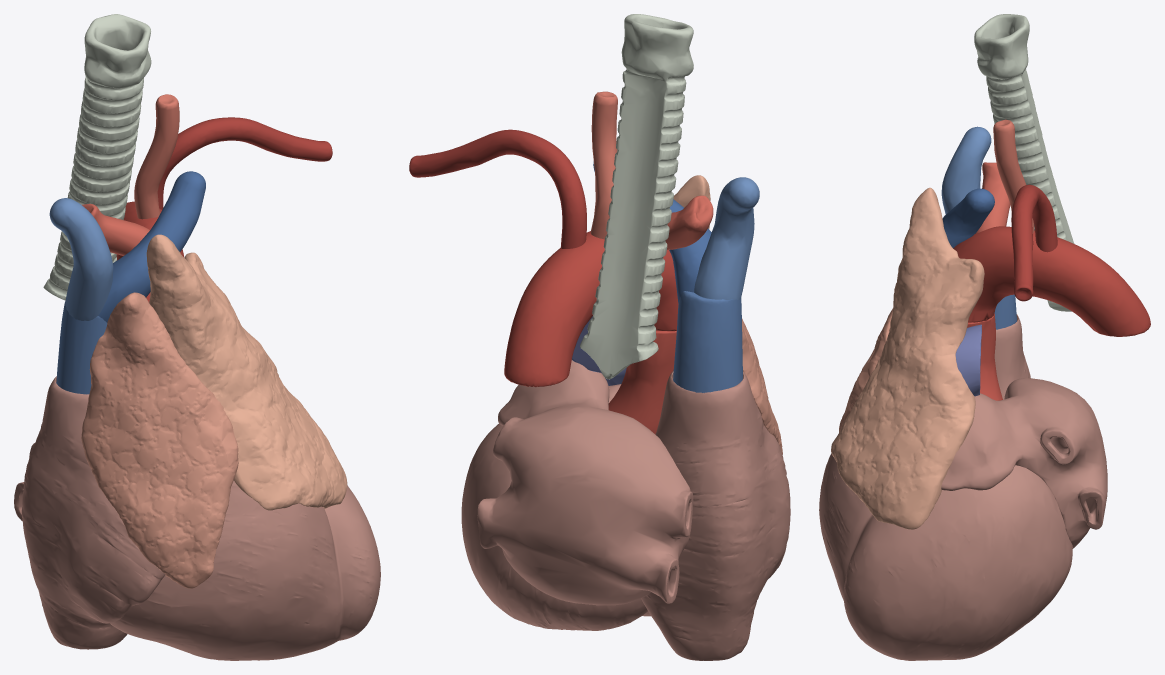
The model's file is thymus.glb.
3 renders of one model, left to right at view 1: azimuth 30°, elevation 25°; view 2: azimuth 150°, elevation 25°; view 3: azimuth 270°, elevation 25°, orthographic. The views are drawn at different scales.
Parts seen in each view (by area): view 1: heart, right-lobe, left-lobe, trachea, right-brachiocephalic-vein, left-brachiocephalic-vein, left-subclavian, left-common-carotid, superior-vena-cava, brachiocephalic-trunk; view 2: heart, trachea, aortic-arch, superior-vena-cava, left-subclavian, right-brachiocephalic-vein, ascending-aorta, left-common-carotid, brachiocephalic-trunk, right-lobe, left-brachiocephalic-vein, left-lobe (+1 smaller); view 3: heart, left-lobe, aortic-arch, trachea, left-subclavian, right-brachiocephalic-vein, left-brachiocephalic-vein, left-common-carotid, ascending-aorta, pulmonary-trunk, brachiocephalic-trunk, right-lobe (+1 smaller).
Boxes of the visible parts, left/top/right/bottom form: heart: left=14, top=376, right=380, bottom=660; right-lobe: left=81, top=292, right=238, bottom=588; left-lobe: left=146, top=234, right=347, bottom=510; trachea: left=43, top=14, right=151, bottom=300; right-brachiocephalic-vein: left=49, top=198, right=113, bottom=320; left-brachiocephalic-vein: left=98, top=171, right=205, bottom=322; left-subclavian: left=157, top=117, right=332, bottom=209; left-common-carotid: left=134, top=94, right=179, bottom=219; superior-vena-cava: left=56, top=301, right=107, bottom=394; brachiocephalic-trunk: left=82, top=203, right=149, bottom=255; heart: left=461, top=360, right=790, bottom=660; trachea: left=580, top=14, right=693, bottom=379; aortic-arch: left=504, top=231, right=678, bottom=387; superior-vena-cava: left=673, top=291, right=742, bottom=392; left-subclavian: left=409, top=129, right=586, bottom=248; right-brachiocephalic-vein: left=694, top=177, right=759, bottom=300; ascending-aorta: left=608, top=331, right=676, bottom=434; left-common-carotid: left=590, top=91, right=617, bottom=239; brachiocephalic-trunk: left=665, top=195, right=713, bottom=249; right-lobe: left=742, top=318, right=782, bottom=454; left-brachiocephalic-vein: left=593, top=161, right=711, bottom=303; left-lobe: left=673, top=175, right=710, bottom=228; heart: left=819, top=314, right=1107, bottom=660; left-lobe: left=831, top=187, right=984, bottom=529; aortic-arch: left=953, top=226, right=1150, bottom=336; trachea: left=974, top=14, right=1074, bottom=311; left-subclavian: left=1011, top=184, right=1057, bottom=301; right-brachiocephalic-vein: left=941, top=126, right=991, bottom=214; left-brachiocephalic-vein: left=942, top=188, right=994, bottom=248; left-common-carotid: left=993, top=119, right=1033, bottom=233; ascending-aorta: left=967, top=313, right=1002, bottom=400; pulmonary-trunk: left=955, top=324, right=981, bottom=396; brachiocephalic-trunk: left=976, top=162, right=1010, bottom=233; right-lobe: left=839, top=308, right=892, bottom=432.
Bounding box in the file's own units: 1.97 × 3.72 × 1.96.
